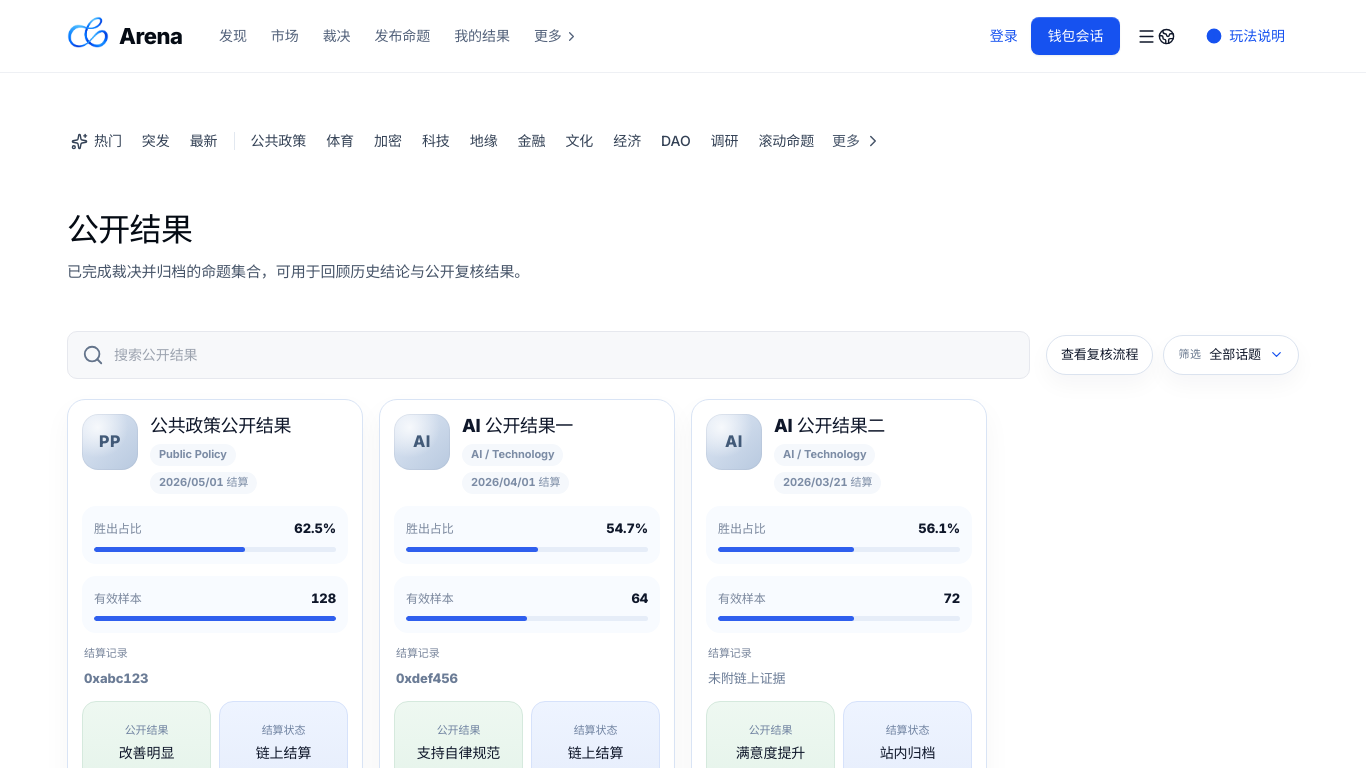
Test: public results page › filters public result cards by topic from the top-right filter button
This screenshot has width=1366, height=768.
Click the button "筛选 全部话题" at x=1231, y=355, box [1163, 335, 1299, 375]
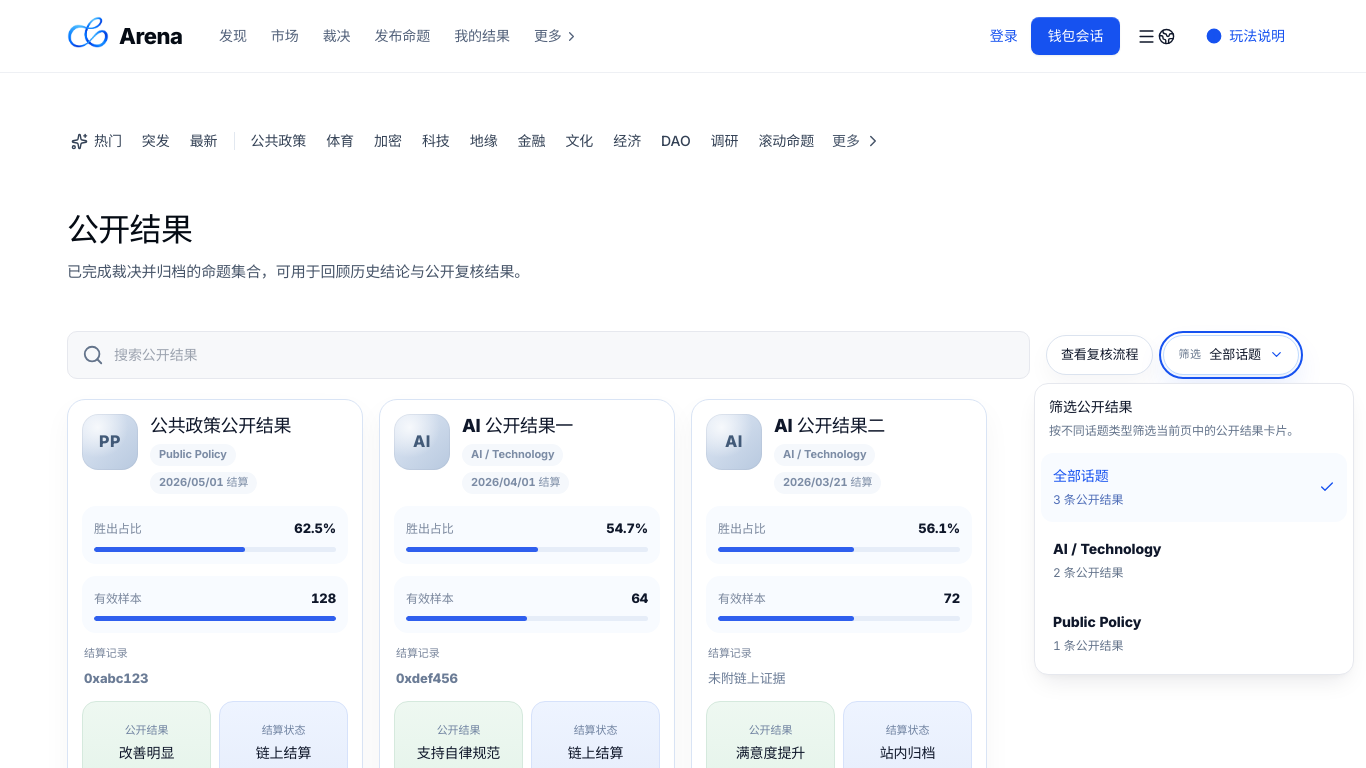
Click the menu item "AI / Technology 2 条公开结果" at x=1107, y=548, box [1041, 526, 1347, 595]
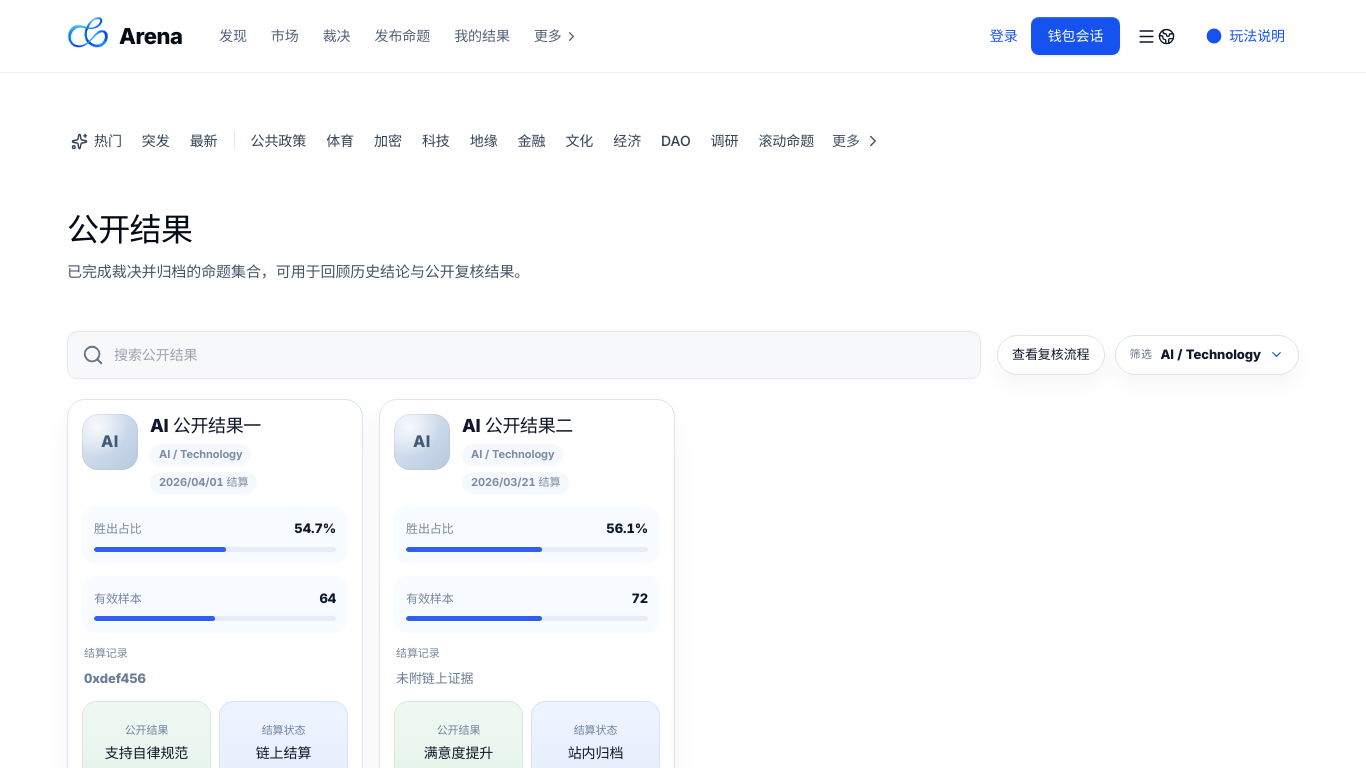
expect the text "AI 公开结果一" is shown: met, box [150, 415, 261, 436]
expect the link "公共政策公开结果" is gone: met
expect the button "筛选 AI / Technology" is shown: met, box [1114, 335, 1299, 375]
